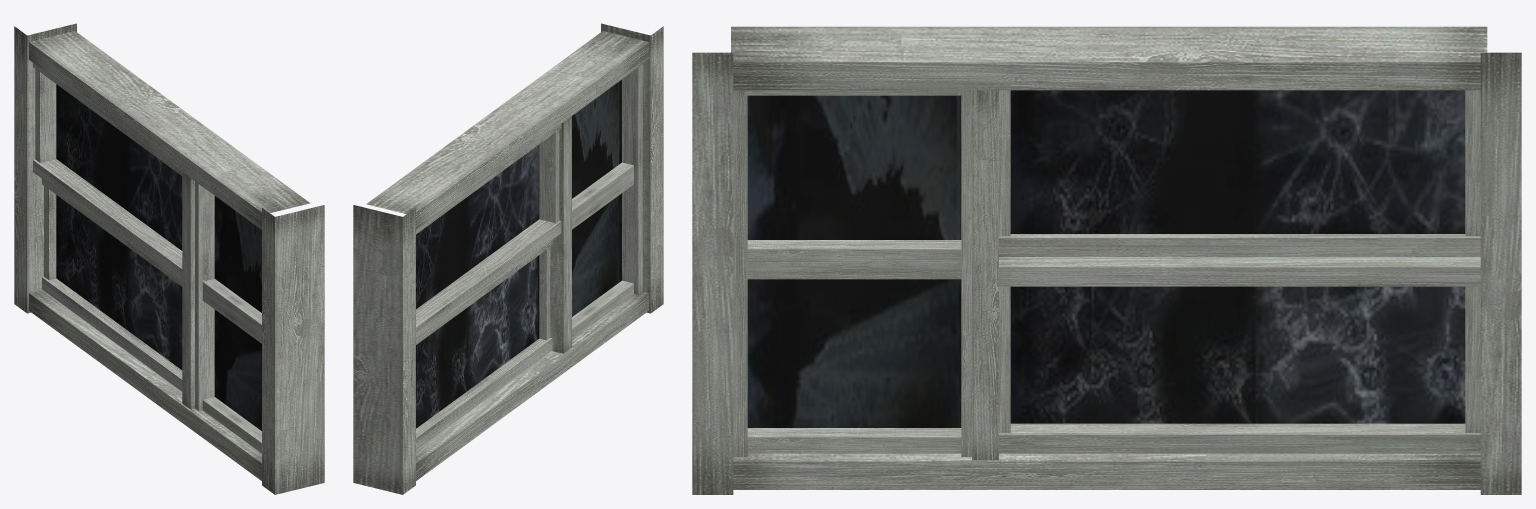
File: caen_window_white_broken_1.glb
3 renders of one model, left to right at view 1: azimuth 30°, elevation 25°; view 2: azimuth 150°, elevation 25°; view 3: azimuth 270°, elevation 25°, orthographic. The views are drawn at different scales.
Bounding box in the file's own units: 7.98 × 42.72 × 72.59.
1 material, 1 textured.
